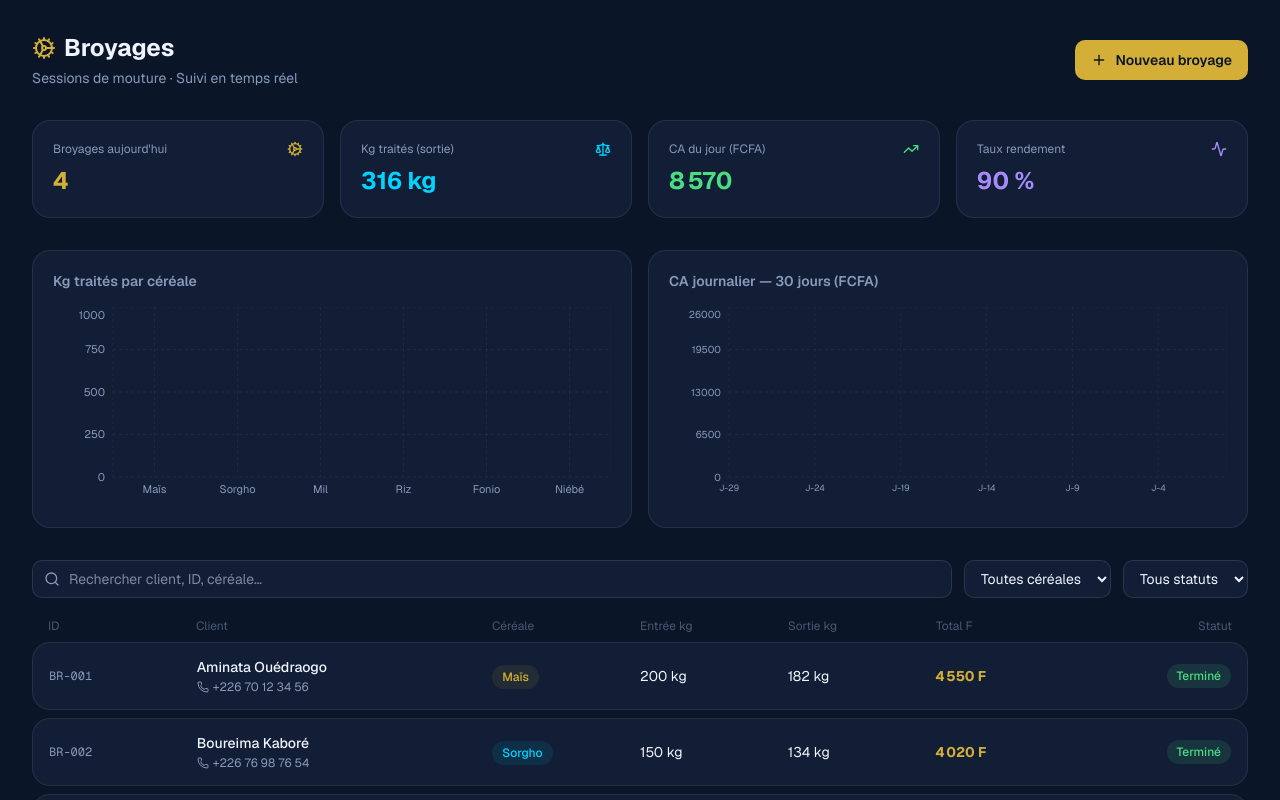
Test: BroyagesPage — modales › 20. le bouton "Nouveau broyage" ouvre le modal
The image size is (1280, 800).
Click the button "Nouveau broyage" at (1162, 60), box [1075, 40, 1248, 80]
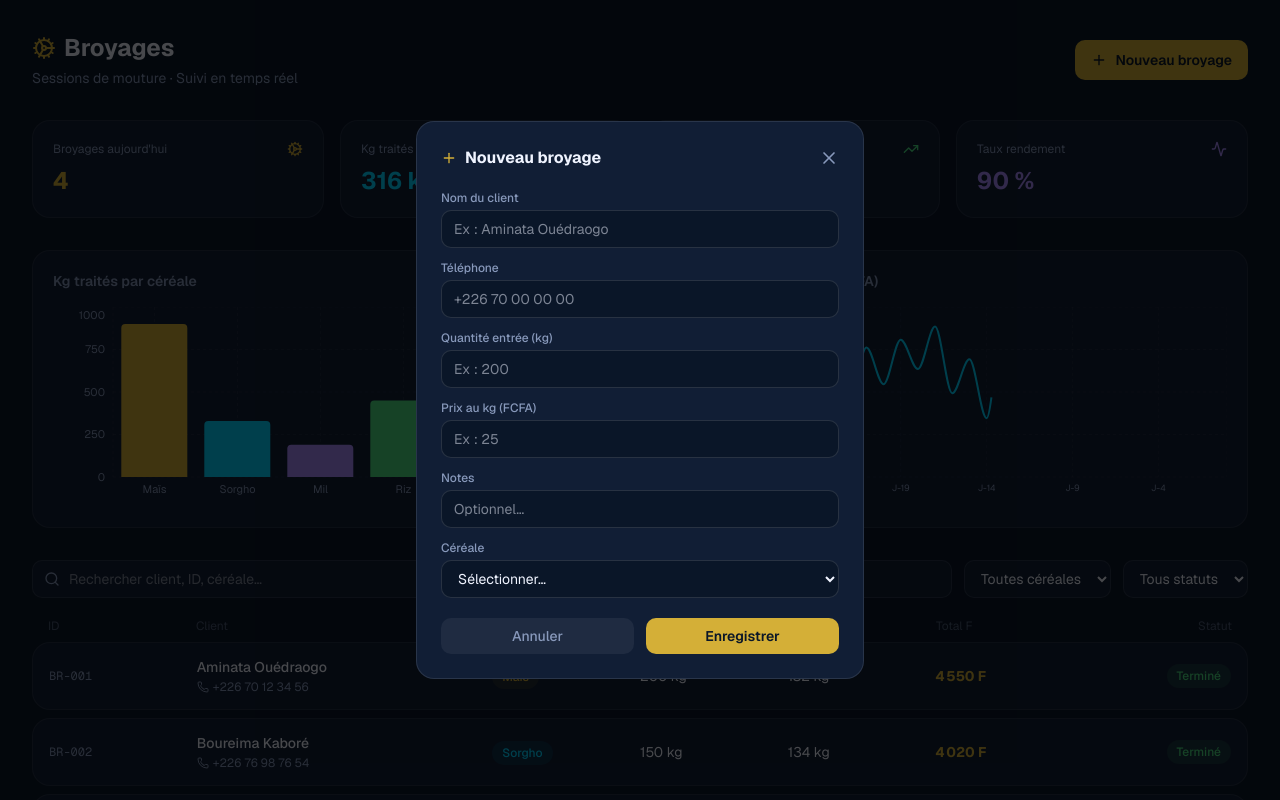
Expected: the heading "Nouveau broyage" is shown, [441, 146, 601, 170]
